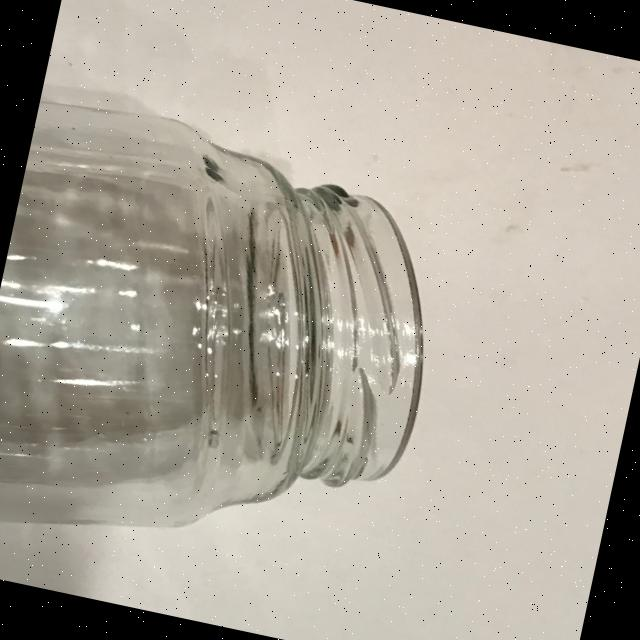glass: (0, 89, 467, 608)
